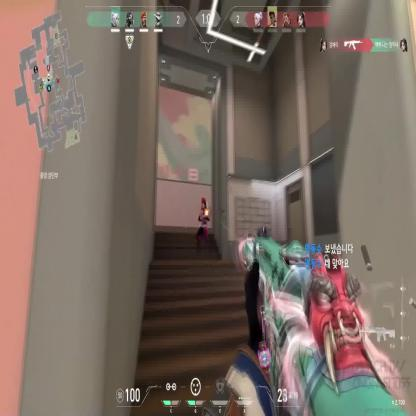enemy: (196, 197, 212, 254)
enemy_head: (200, 196, 206, 210)
